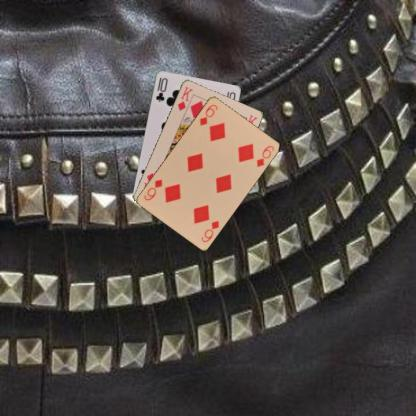10c: (153, 75, 169, 103)
6d: (197, 101, 218, 127), (199, 218, 220, 243)
Kd: (175, 84, 194, 112)
